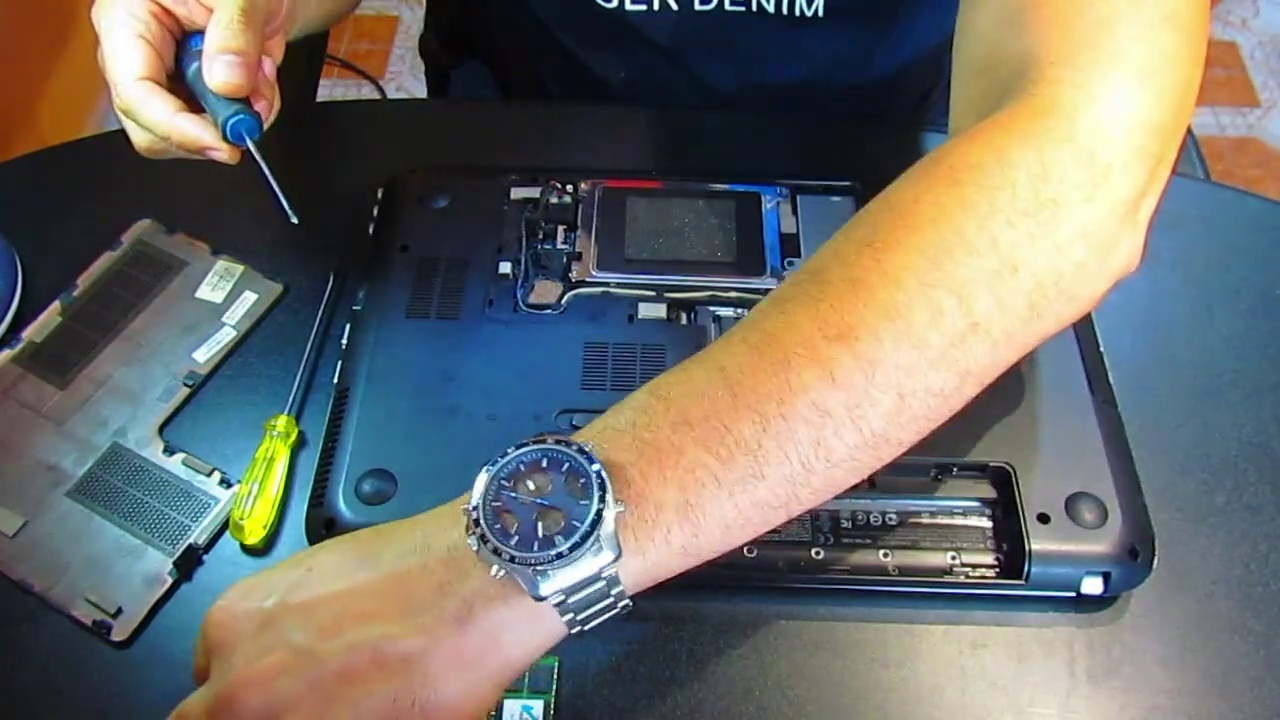screwdriver: (226, 267, 337, 549), (175, 27, 300, 228)
